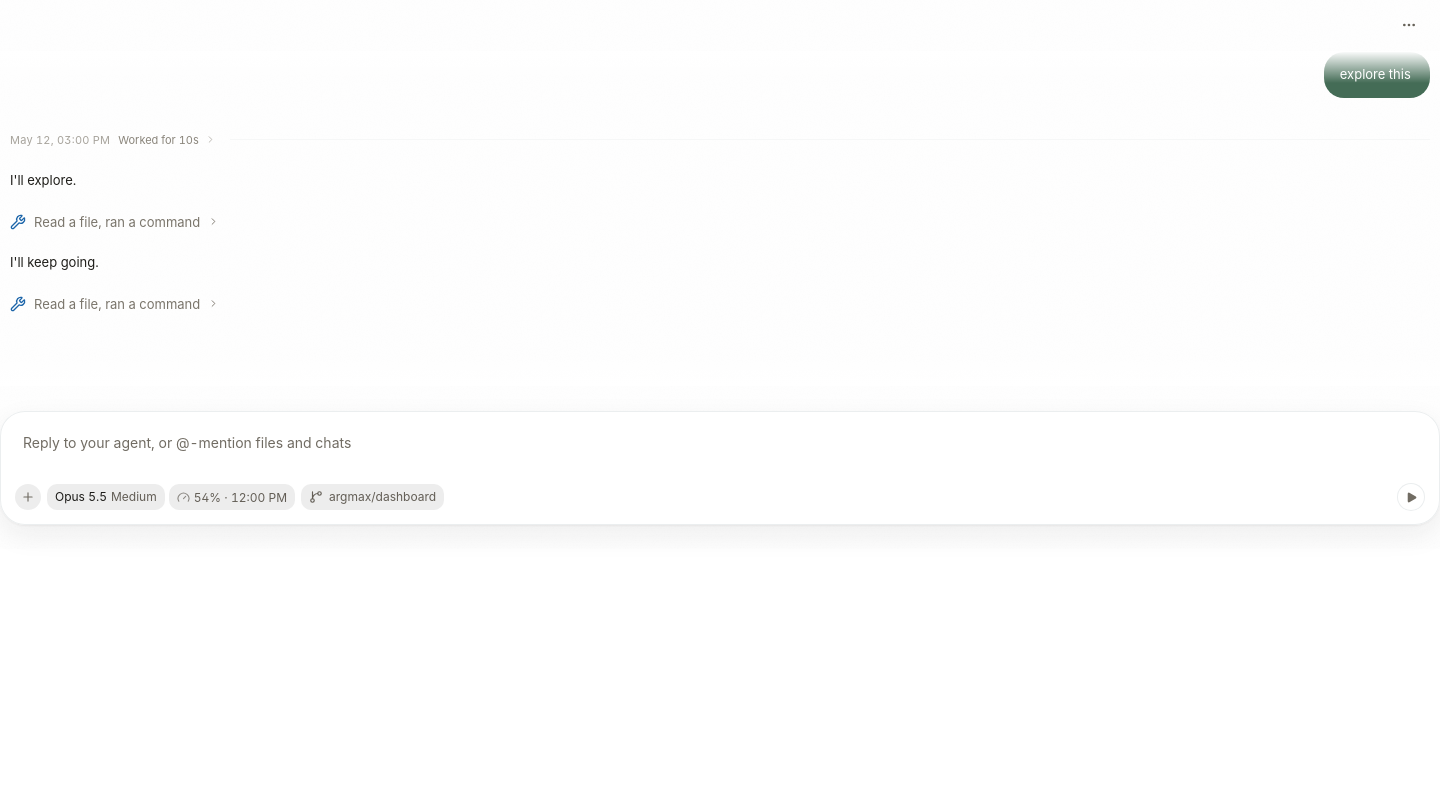
SessionConversation — tools & chrome › turn chip expands every tool group even after one group was toggled locally
The image size is (1440, 810).
Check: the 2nd button "Read a file, ran a command" does not show "✓", box [10,290,1430,318]
Check: the 2nd button "Read a file, ran a command" does not show "+", box [10,290,1430,318]
Click the 1st button "Read a file, ran a command". click: (50, 222)
box: [10,208,1430,236]
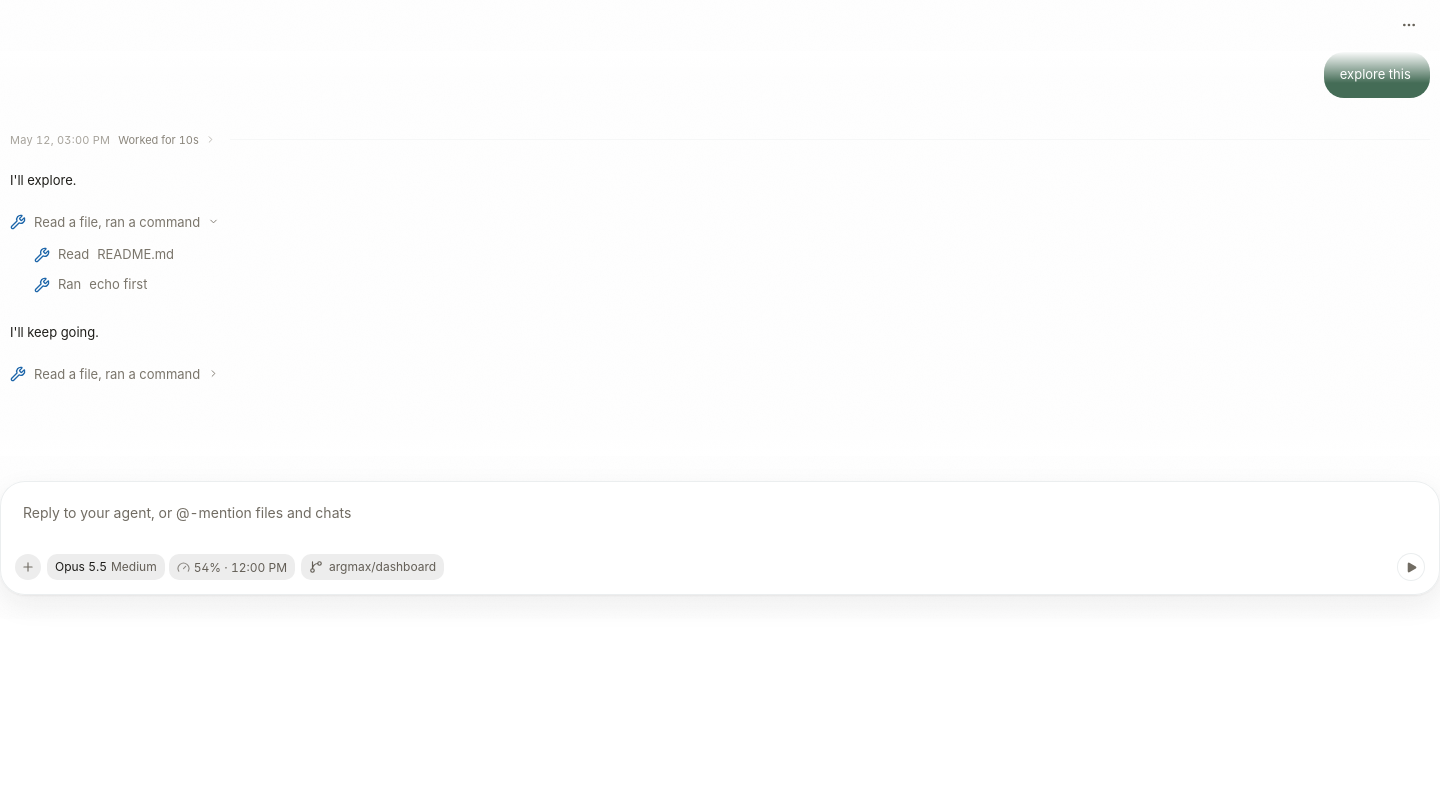
Click the button "Worked for 10s". click: (170, 140)
box: [118,132,222,148]
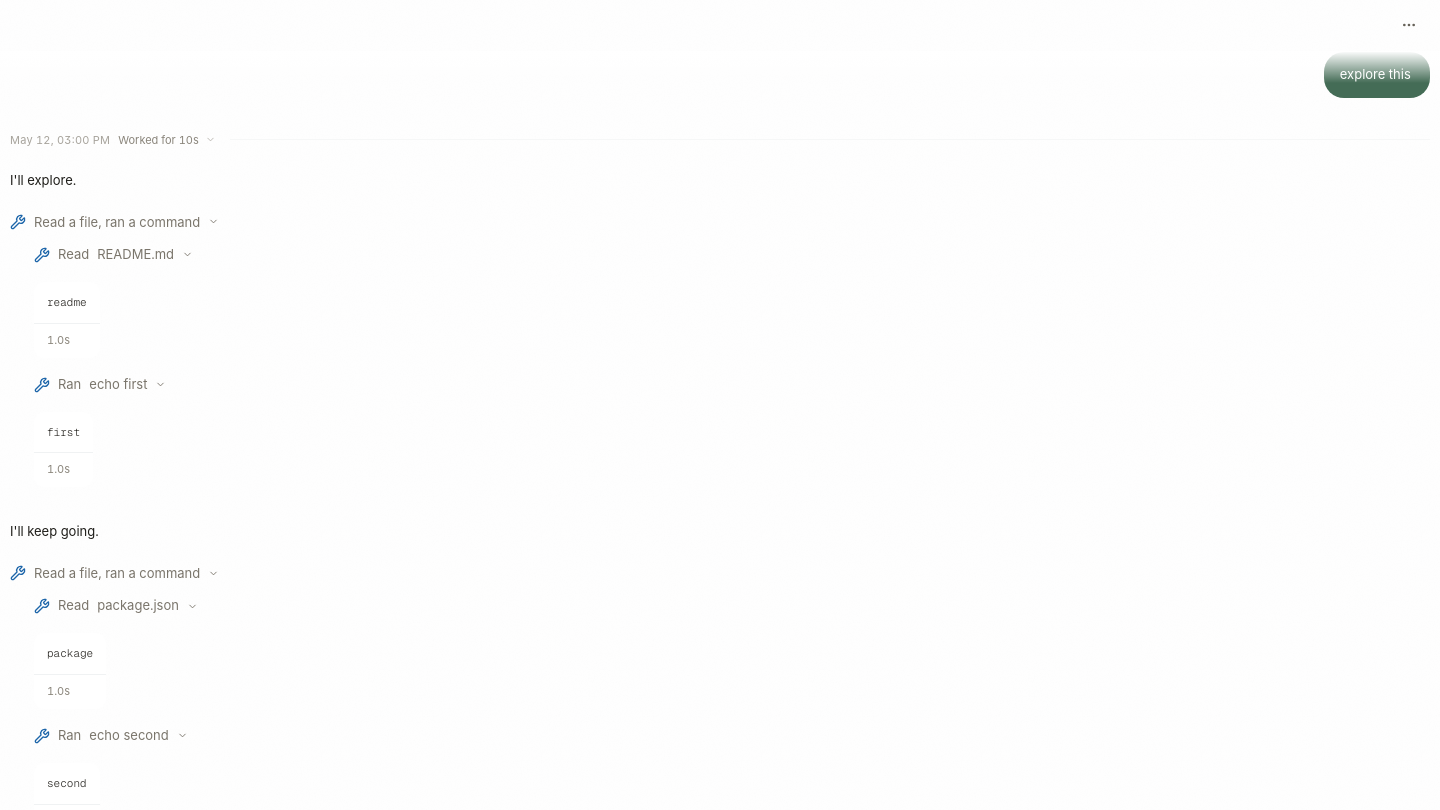
Check: the button "Read README.md" is shown, box [34,240,1430,270]
Check: the 2nd button "Read a file, ran a command" is expanded, box [10,559,1430,587]
Check: the button "Read package.json" is shown, box [34,591,1430,621]
